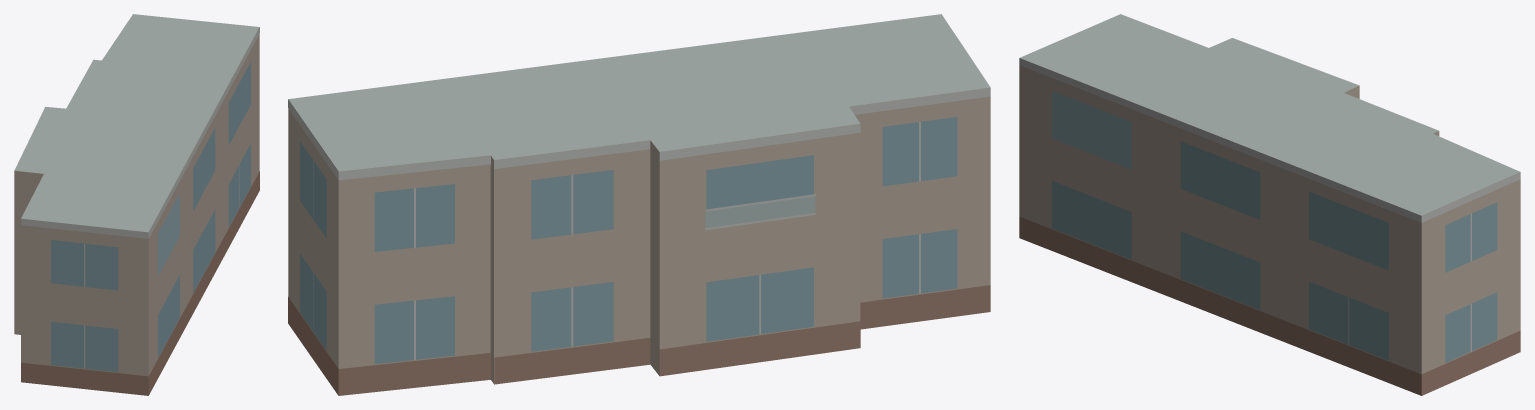
File: survey-upis-32661812.glb
3 renders of one model, left to right at view 1: azimuth 30°, elevation 25°; view 2: azimuth 150°, elevation 25°; view 3: azimuth 270°, elevation 25°, orthographic. The views are drawn at different scales.
Parts seen in each view (by area): view 1: survey-upis-32661812.tmp; view 2: survey-upis-32661812.tmp; view 3: survey-upis-32661812.tmp.
Part boxes in pixels (x1=…): survey-upis-32661812.tmp: x1=14, y1=14, x2=259, y2=395; survey-upis-32661812.tmp: x1=288, y1=14, x2=990, y2=395; survey-upis-32661812.tmp: x1=1019, y1=14, x2=1520, y2=395.
Size of the model in its own units: 14.66 by 6.1 by 15.39.
